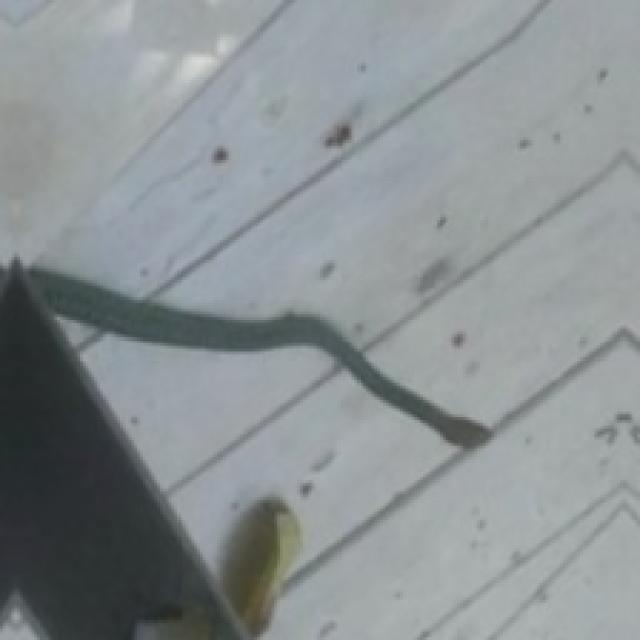paradise tree snake: (26, 269, 489, 446)
